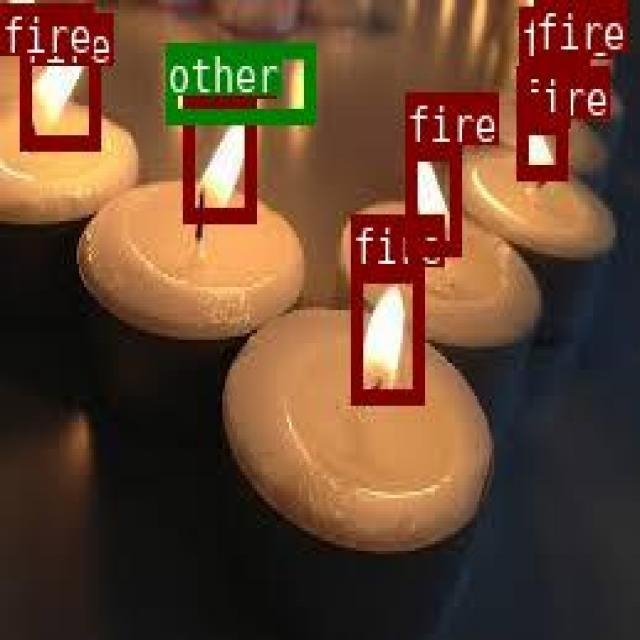fire: (18, 12, 97, 146), (350, 265, 421, 402), (182, 97, 253, 218), (404, 144, 458, 252), (531, 0, 588, 66), (517, 57, 566, 122), (514, 116, 564, 176), (0, 0, 29, 49)
